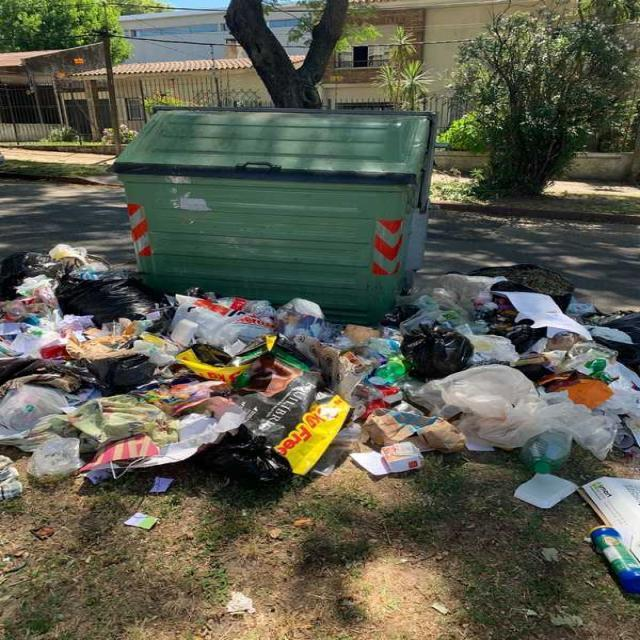Trashbag: (57, 268, 156, 322), (210, 428, 297, 489), (399, 324, 477, 381), (0, 249, 59, 293)
